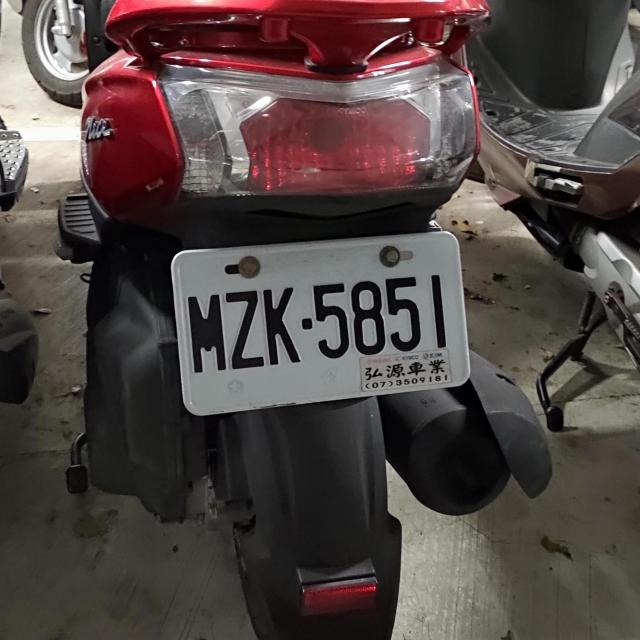W: (164, 225, 473, 411)
